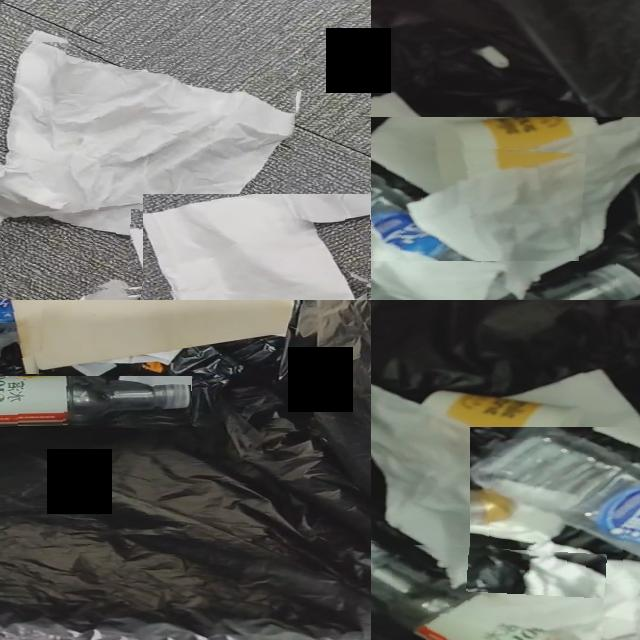bottle: (371, 148, 584, 257), (470, 427, 640, 558), (371, 543, 580, 640), (0, 376, 191, 425)
carton: (20, 300, 294, 368)
dixie_cup: (422, 391, 580, 457)
paper: (0, 40, 296, 240), (371, 117, 640, 300), (371, 385, 598, 580), (143, 194, 356, 300), (466, 564, 640, 640), (509, 370, 640, 466), (371, 92, 459, 190), (73, 350, 178, 378)
